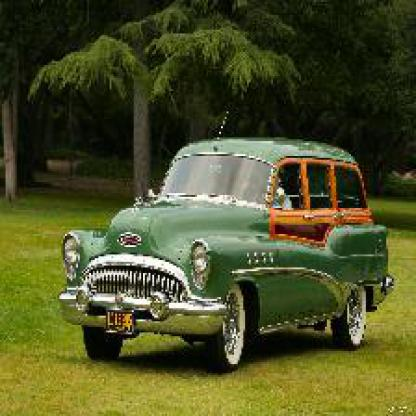not_emergency: (37, 113, 392, 370)
